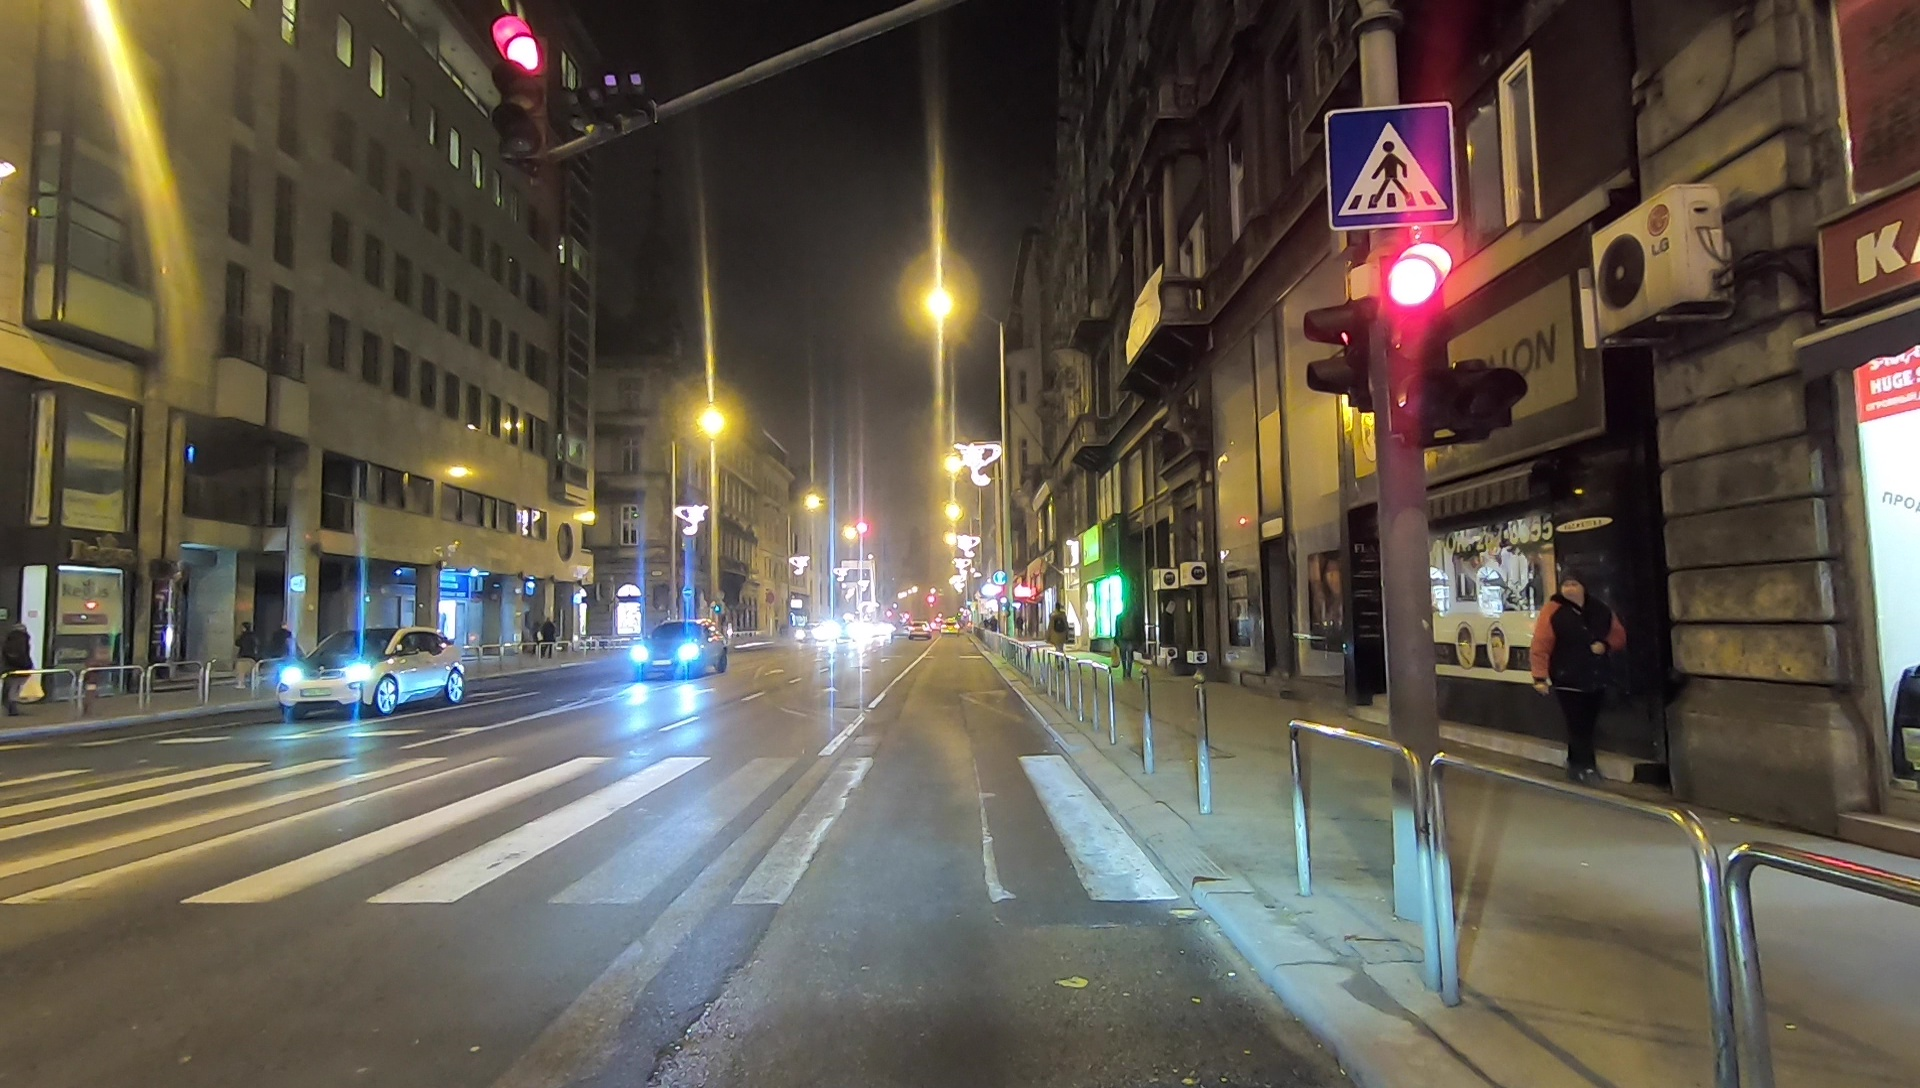person: (1530, 574, 1623, 789), (4, 623, 32, 713), (1115, 597, 1139, 674), (232, 619, 256, 689), (1045, 604, 1069, 665), (273, 619, 293, 687)
